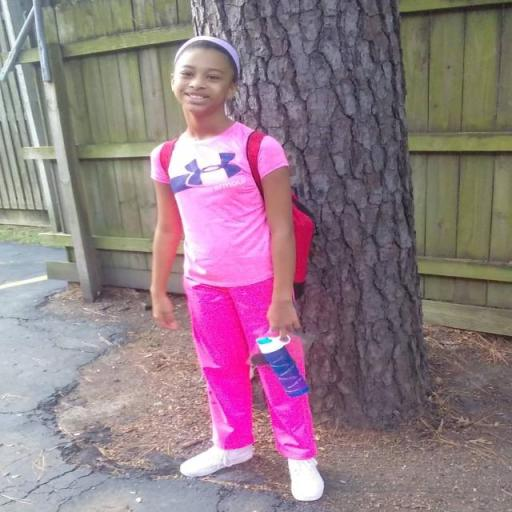Under Armour: (176, 148, 246, 192)
